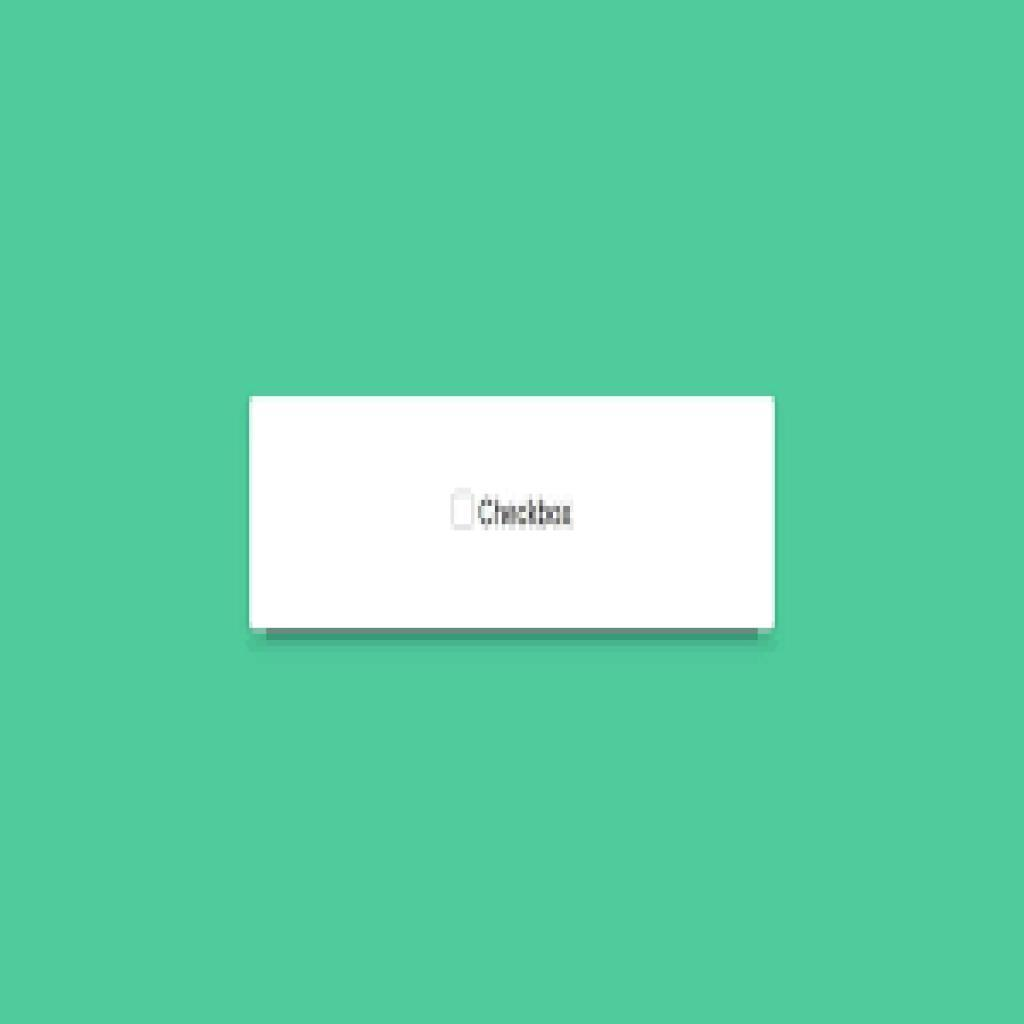checkbox: (452, 489, 473, 527)
